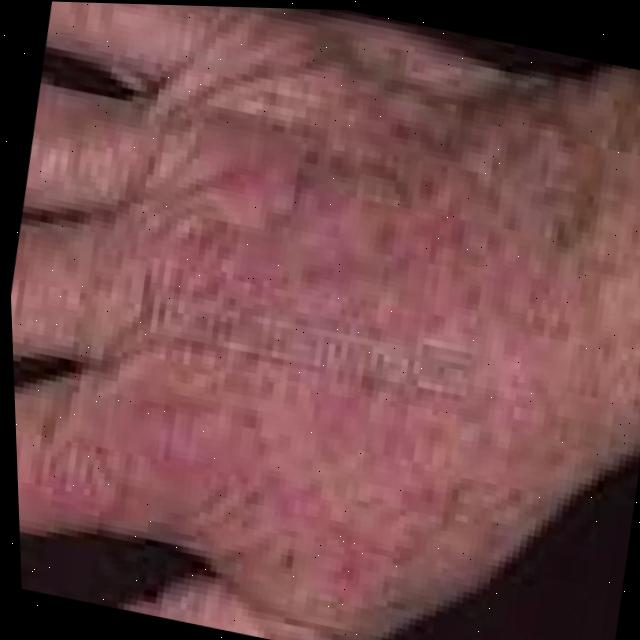Melasma: (103, 3, 640, 630)
